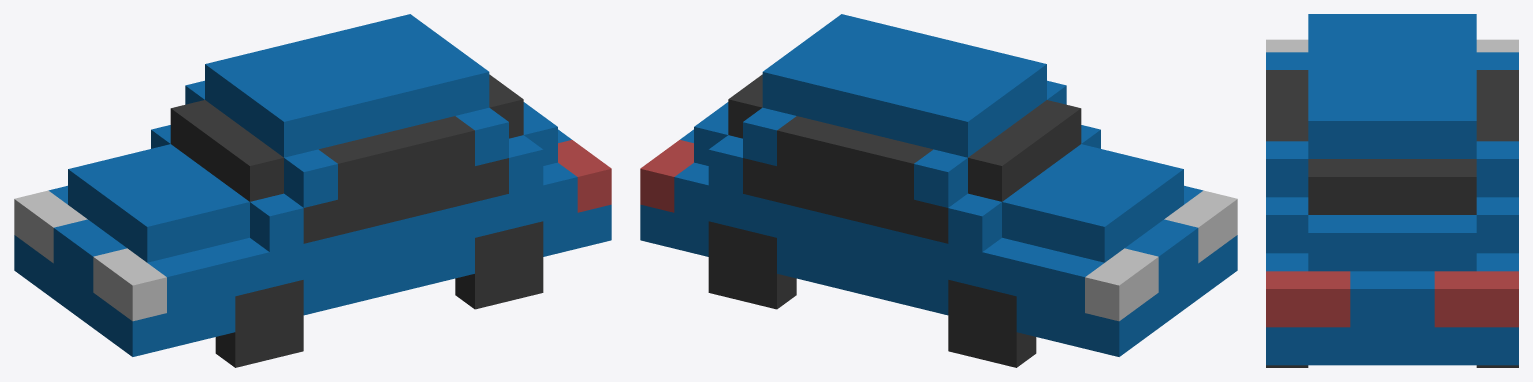
The model's file is car-v2-blue.gltf.
The picture shows the model from 3 angles, left to right: view 1: azimuth 30°, elevation 25°; view 2: azimuth 150°, elevation 25°; view 3: azimuth 270°, elevation 25°; orthographic projection. The views are drawn at different scales.
Visible parts, largest first — view 1: model, wheels; view 2: model, wheels; view 3: model, wheels.
Part boxes in pixels (bbox=[...]): model: bbox=[14, 14, 611, 356]; wheels: bbox=[215, 221, 543, 367]; model: bbox=[640, 14, 1237, 356]; wheels: bbox=[708, 221, 1036, 367]; model: bbox=[1266, 14, 1518, 365]; wheels: bbox=[1266, 365, 1518, 367].
Bounding box in the file's own units: 1.4 × 0.6 × 0.6.
2 materials, 2 textured.
